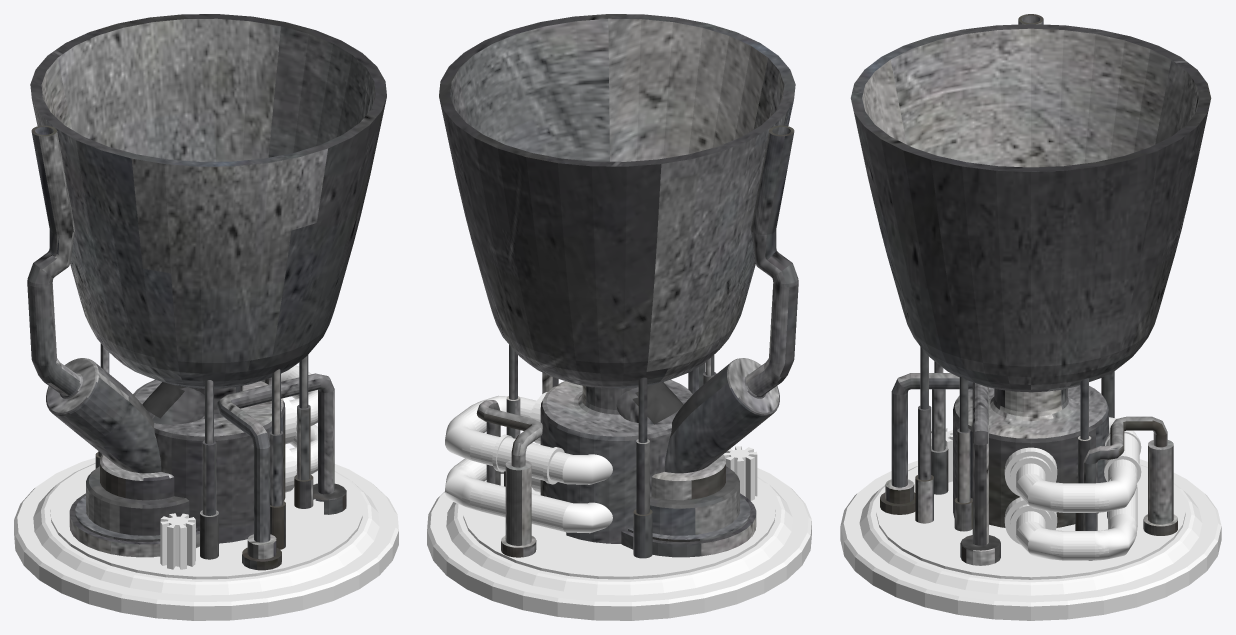
File: rocket.glb
3 renders of one model, left to right at view 1: azimuth 30°, elevation 25°; view 2: azimuth 150°, elevation 25°; view 3: azimuth 270°, elevation 25°, orthographic.
Parts seen in each view (by area): view 1: Cylinder.010_Material.001_0.5181; view 2: Cylinder.010_Material.001_0.5181; view 3: Cylinder.010_Material.001_0.5181.
Part boxes in pixels (x1,y1,x2,y2): Cylinder.010_Material.001_0.5181: (14, 14, 398, 620); Cylinder.010_Material.001_0.5181: (427, 14, 811, 620); Cylinder.010_Material.001_0.5181: (840, 14, 1221, 620).
Size of the model in its own units: 2.06 by 2.57 by 2.
Materials: 3 (1 with a texture image).
